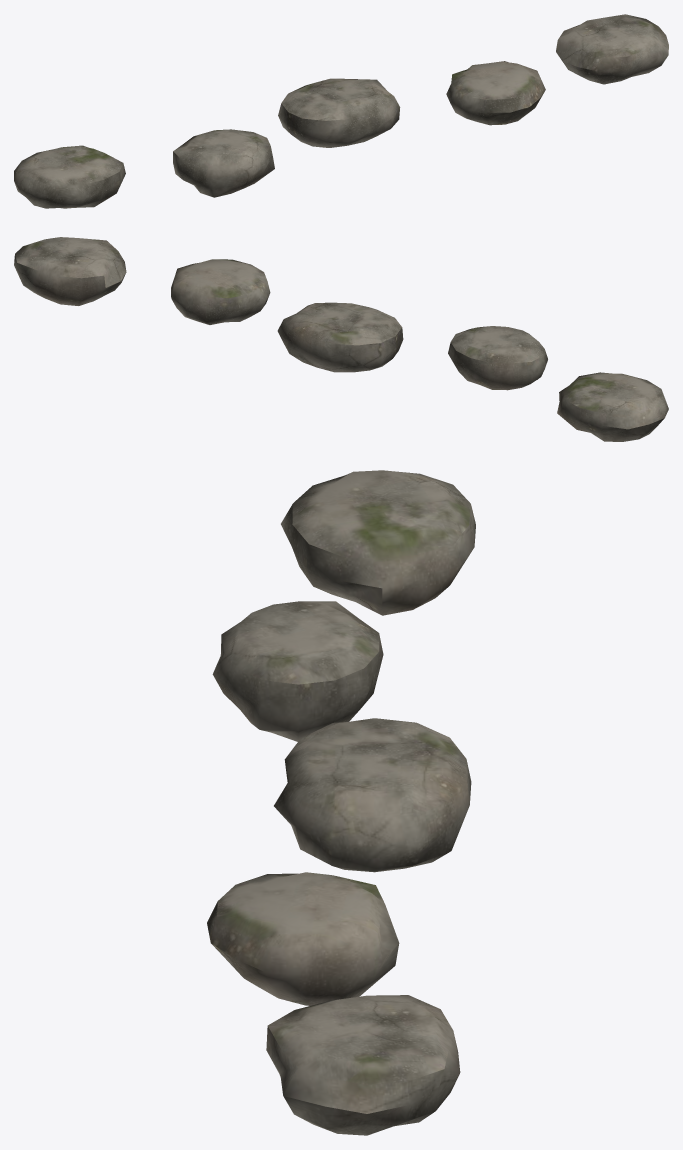
File: fm_stepping_stones_path5.glb
3 views of the same model, one above another, from view 1: azimuth 30°, elevation 25°; view 2: azimuth 150°, elevation 25°; view 3: azimuth 270°, elevation 25° (orthographic). The views are drawn at different scales.
Visible parts, largest first — view 1: fm_stepping_stones_path5; view 2: fm_stepping_stones_path5; view 3: fm_stepping_stones_path5.
Part boxes in pixels (<box>): fm_stepping_stones_path5: <box>14,14,668,208</box>; fm_stepping_stones_path5: <box>14,237,668,441</box>; fm_stepping_stones_path5: <box>207,470,475,1135</box>.
Size of the model in its own units: 3.89 by 0.2592 by 0.7049.
1 material, 1 textured.
